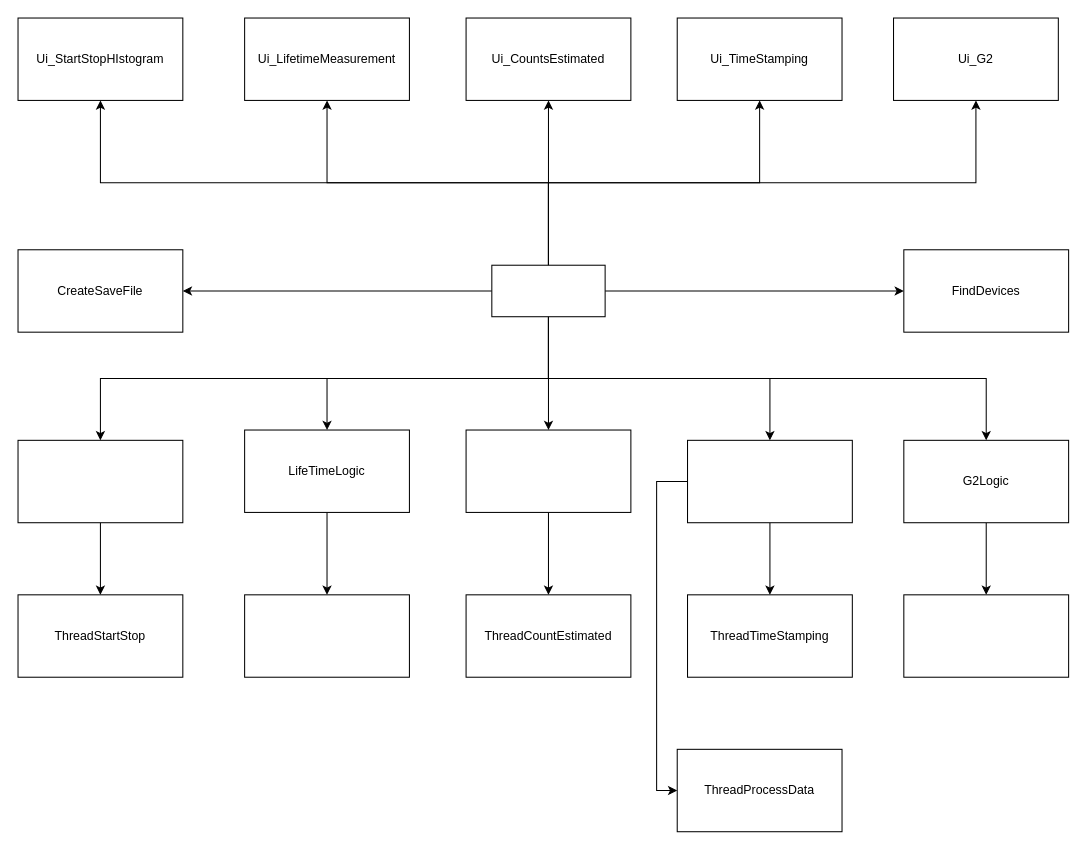
Image size: 1087x850. Some labels were removed from this diagram. The shapes that lost their labels are listed below. From the top down, each one's centre as x and y in pixels, then its label:
the point at 548,290: Main
the point at 100,481: StartStopLogic
the point at 548,470: CountsEstimatedLogic
the point at 769,481: TimeStampingLogic
the point at 326,635: ThreadLifeTime
the point at 986,635: ThreadG2
